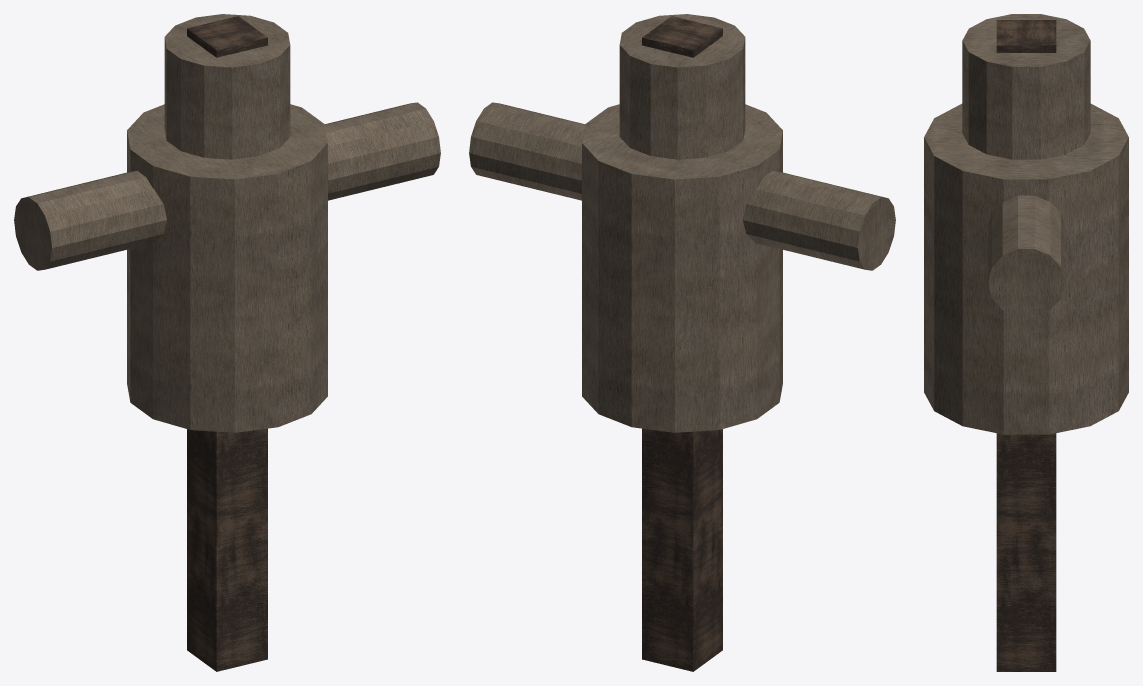
The model's file is prop_training_pell.glb.
3 views of the same model, side by side, from view 1: azimuth 30°, elevation 25°; view 2: azimuth 150°, elevation 25°; view 3: azimuth 270°, elevation 25° (orthographic).
Parts seen in each view (by area): view 1: prop_training_pell; view 2: prop_training_pell; view 3: prop_training_pell.
Part boxes in pixels (x1,y1,x2,y2): prop_training_pell: (14, 14, 440, 671); prop_training_pell: (469, 14, 895, 671); prop_training_pell: (924, 14, 1128, 671).
Bounding box in the file's own units: 1.06 × 1.62 × 0.48.
Materials: 2 (2 with a texture image).
